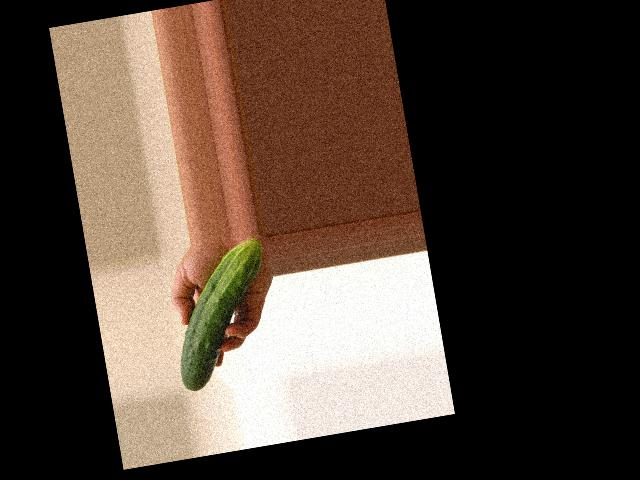cucumber: (161, 237, 283, 392)
